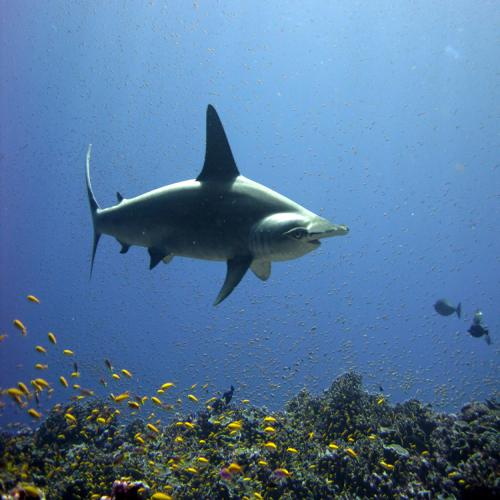shark-endangered: (84, 104, 349, 310)
